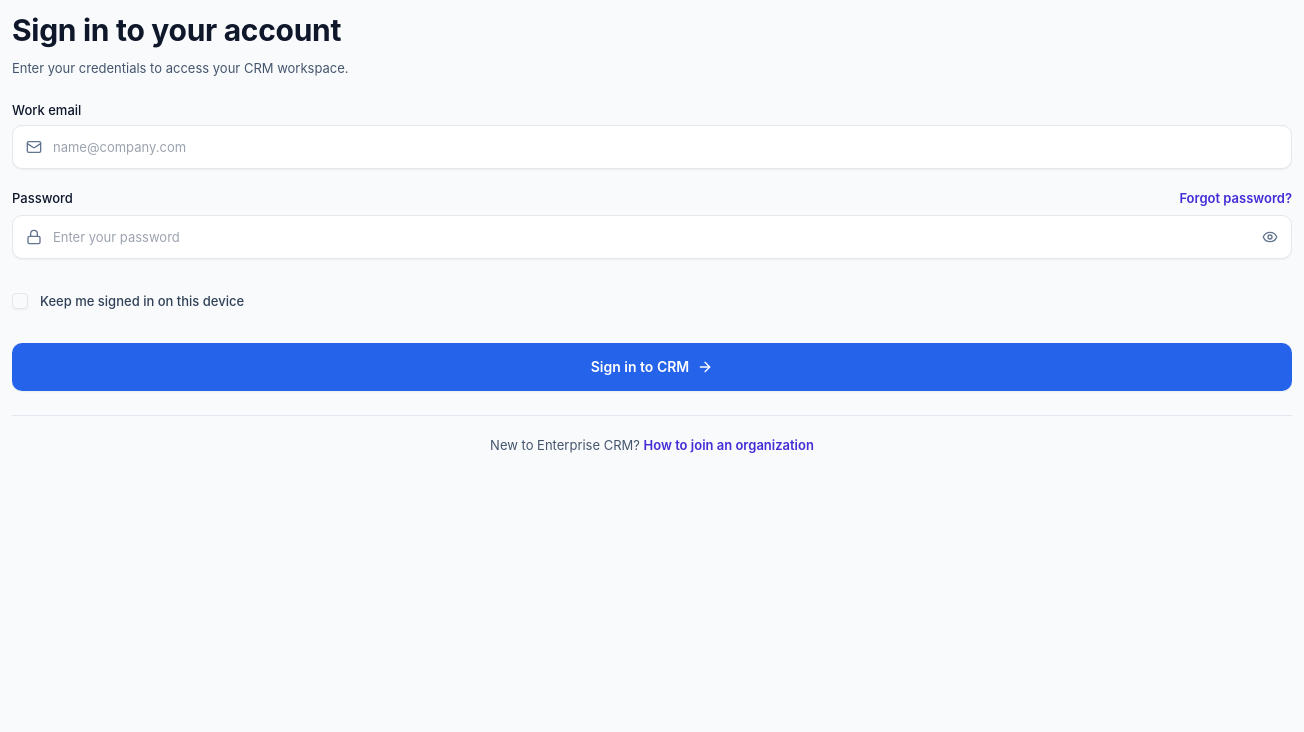
Test: LoginForm › keeps entered credentials and shows a server error
The image size is (1304, 732).
Type "alex@crm.com" into the field labelled "Work email" at (652, 147), box [12, 125, 1292, 169]
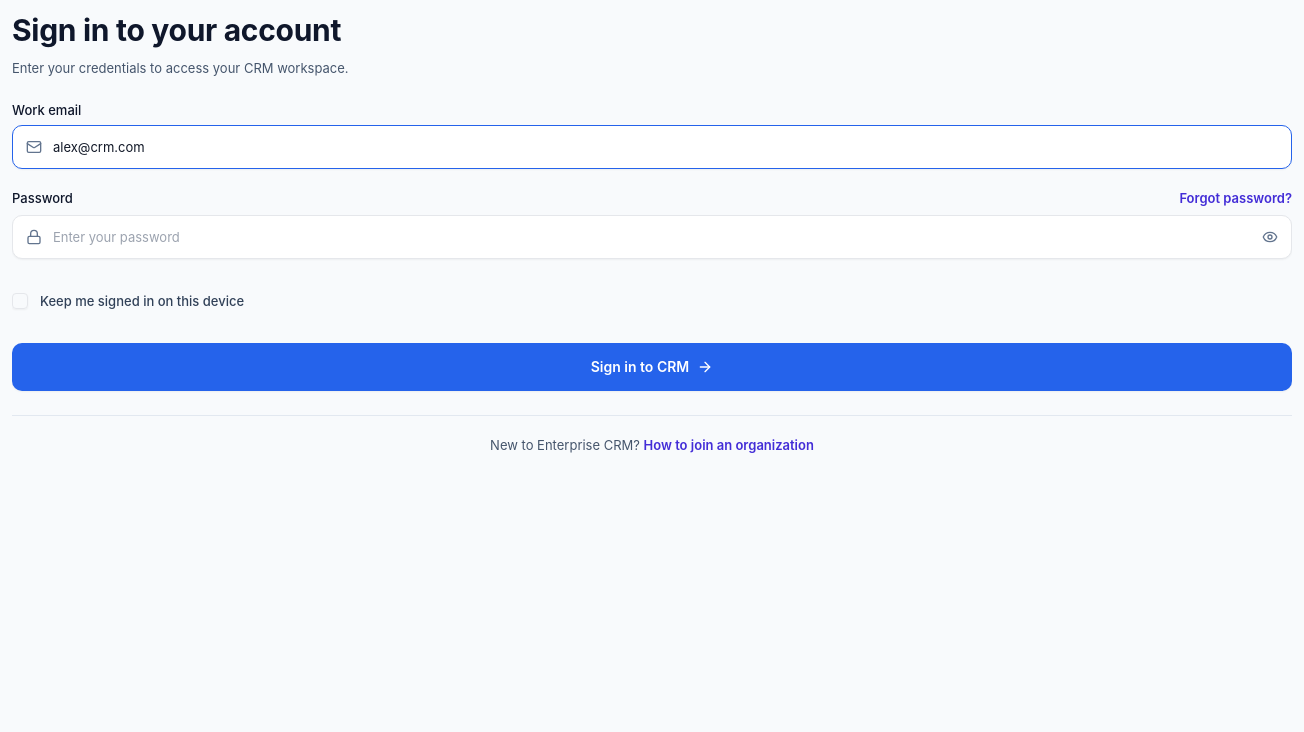
Type "wrong-password" into the password field labelled "Password" at (652, 237), box [12, 215, 1292, 259]
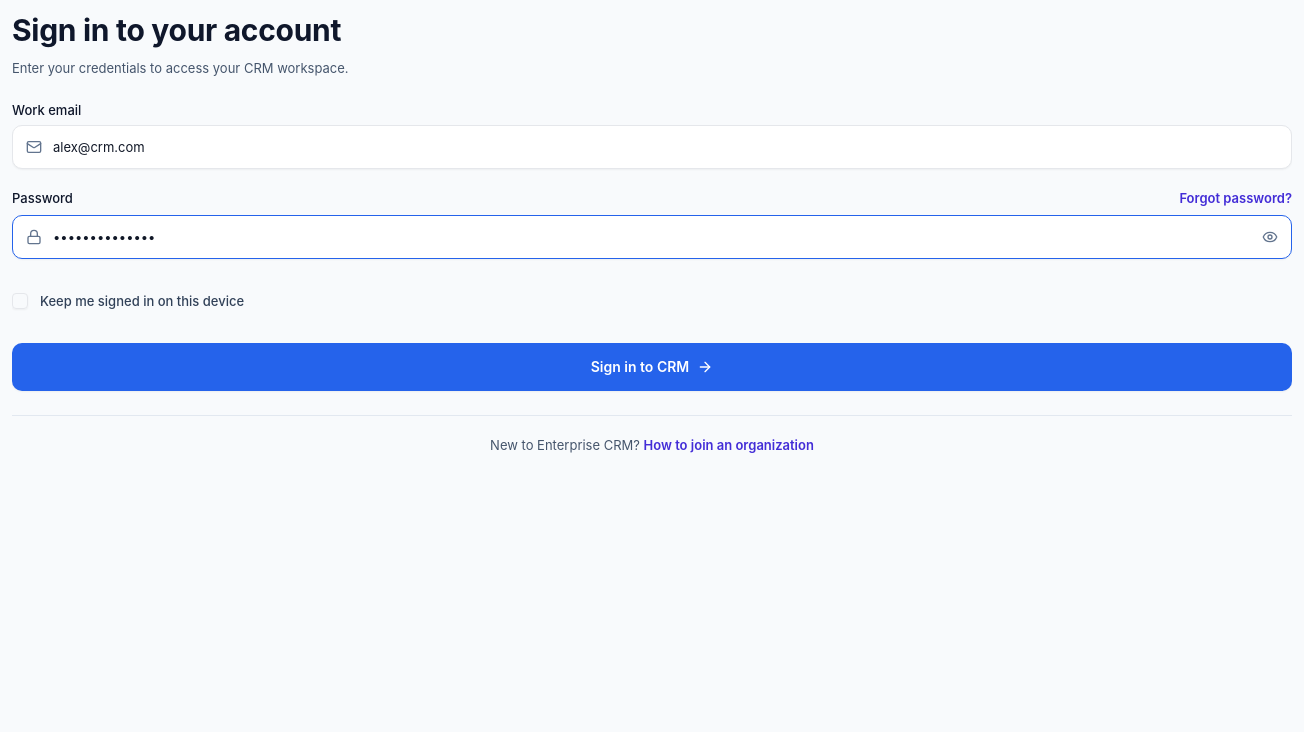
Click the button "Sign in to CRM" at (652, 367), box [12, 343, 1292, 391]
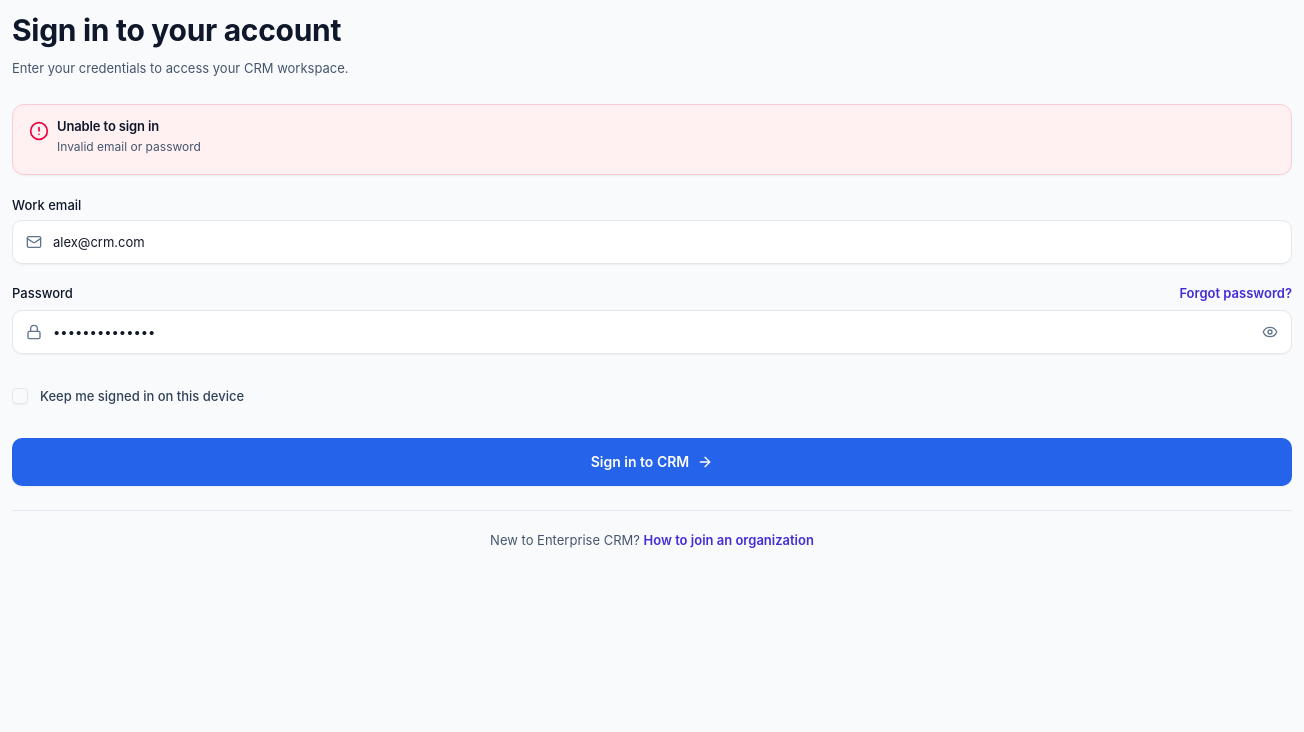
Result: the text "Invalid email or password" is shown at [57, 139, 201, 154]
